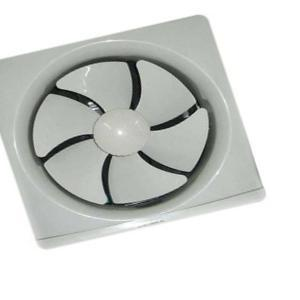fan: (3, 18, 270, 261)
